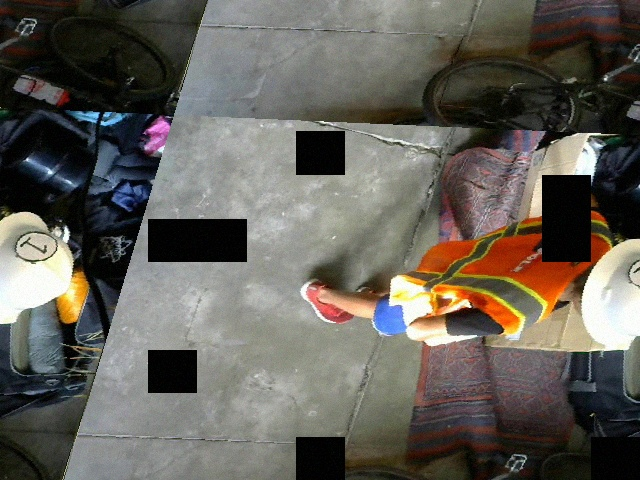one: (625, 256, 639, 288)
